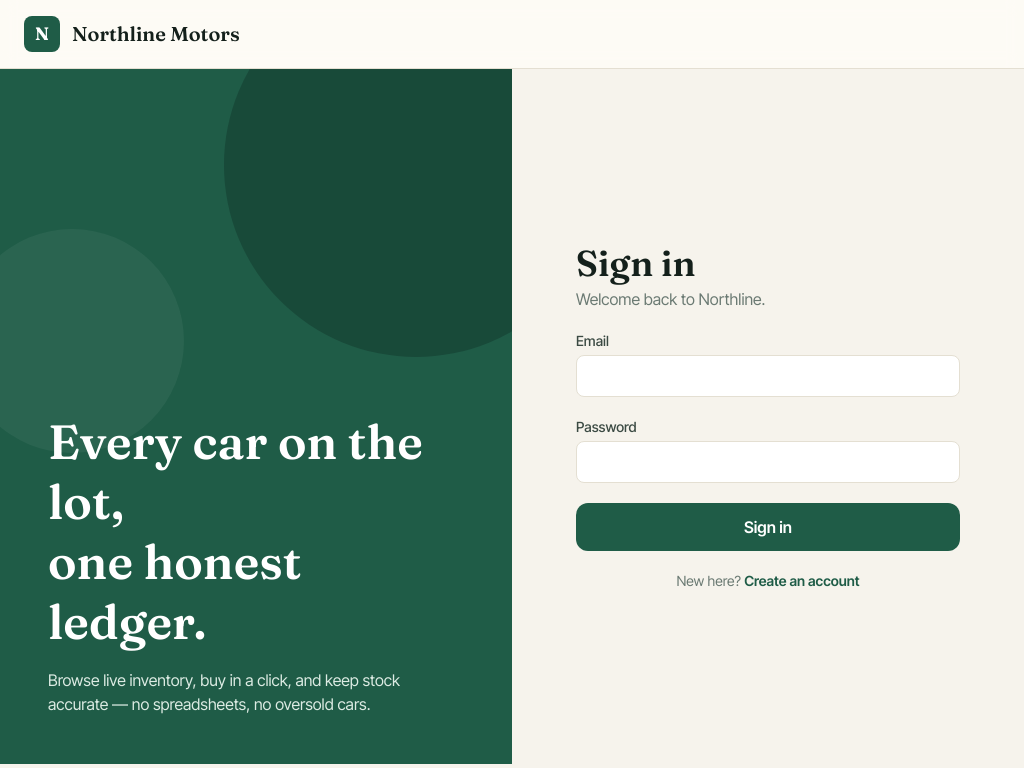
Test case: App › registers a new account then signs in automatically
Click the button "Create an account": (802,580) [744,570,860,590]
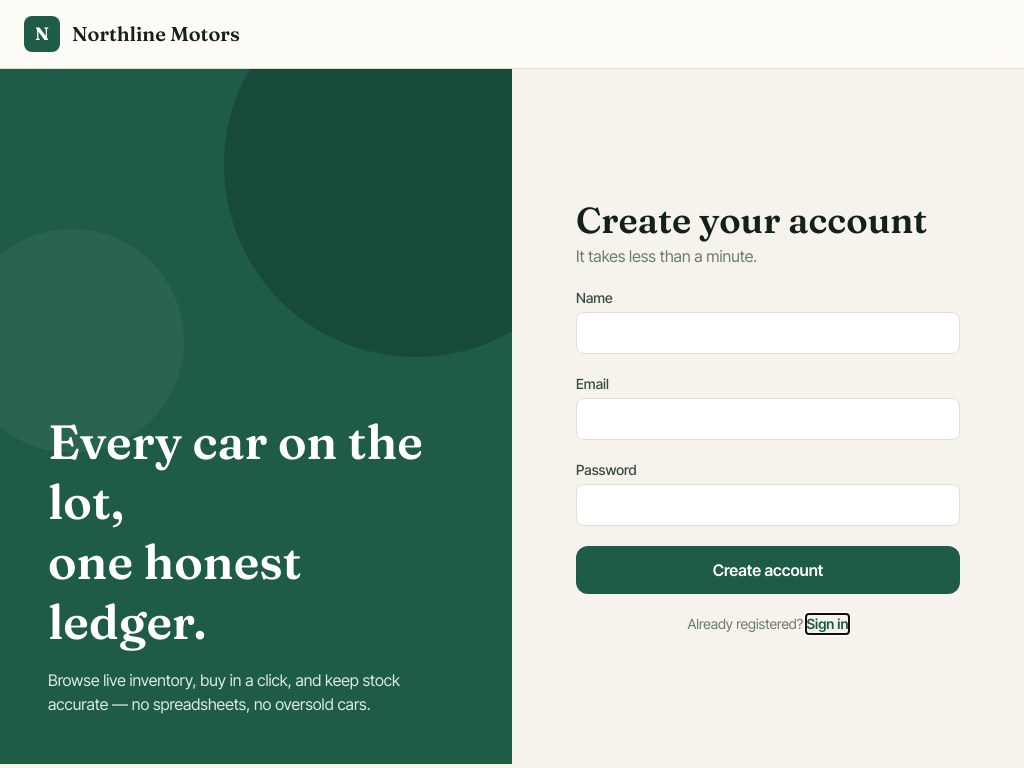
In the field labelled "Name": (768,332) [576,312,960,354], type "Casey Customer"
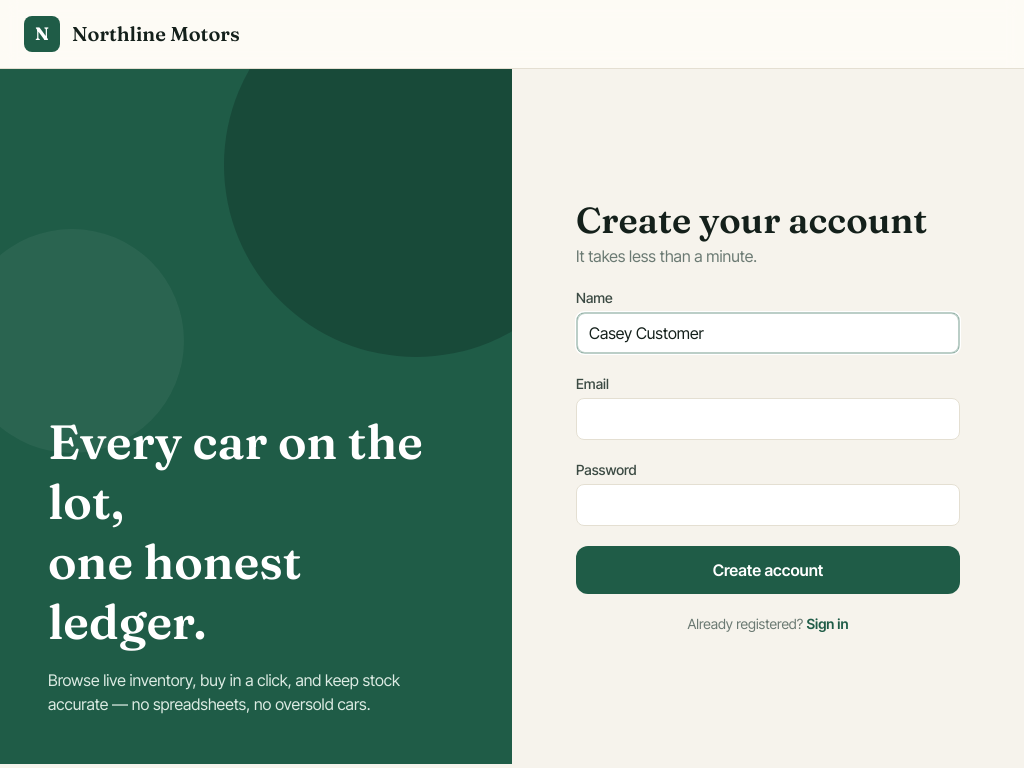
In the field labelled "Email": (768,418) [576,398,960,440], type "casey@example.com"
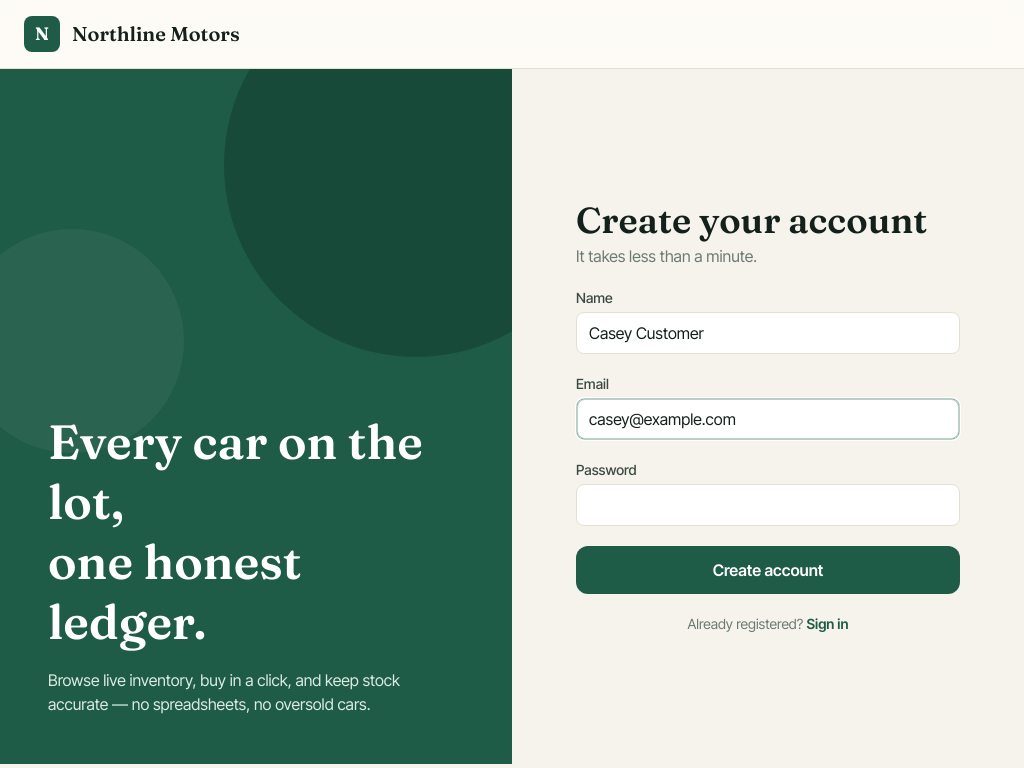
In the password field labelled "Password": (768,504) [576,484,960,526], type "Passw0rd!"
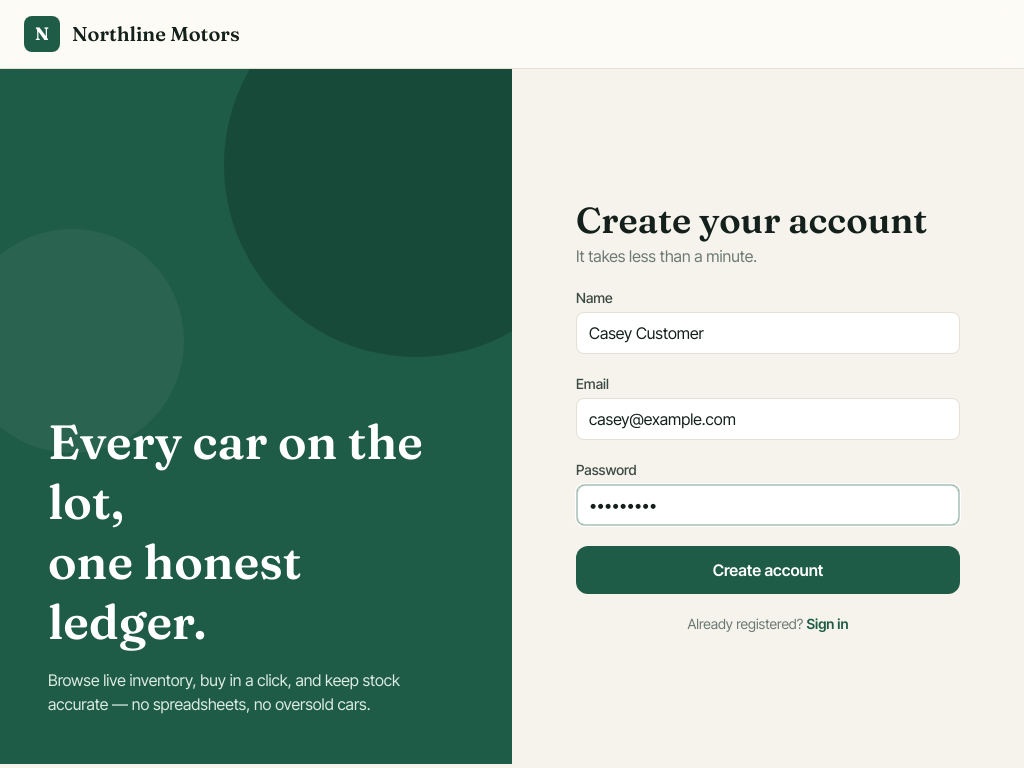
Click the button "Create account": (768,570) [576,546,960,594]
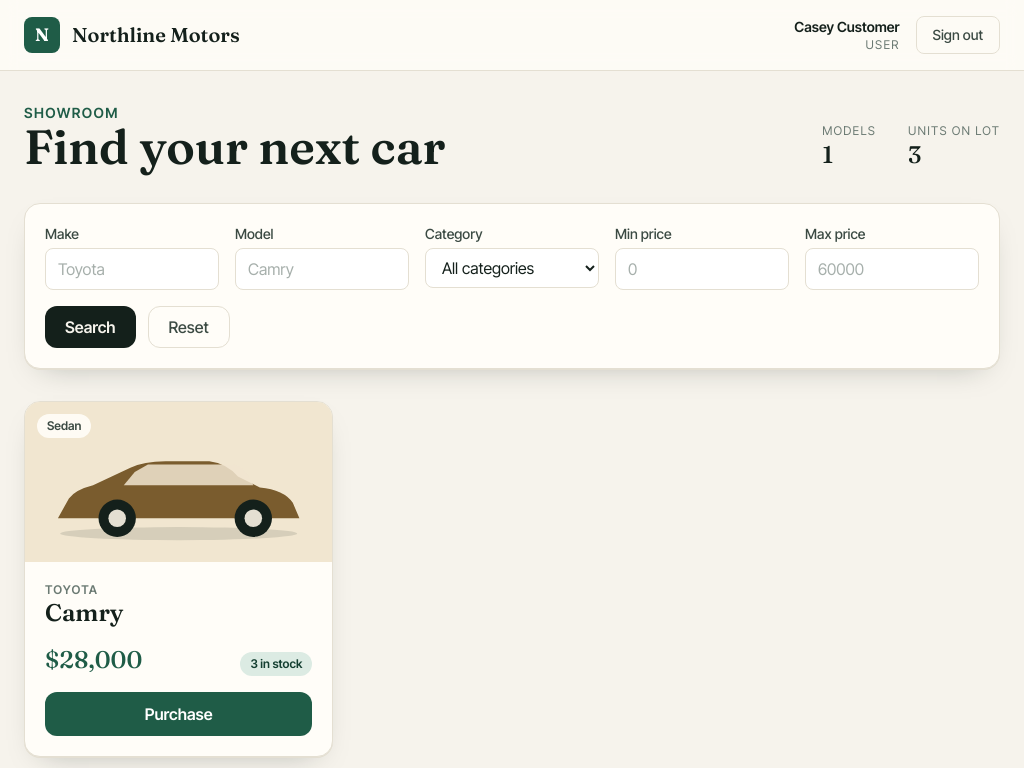
Check: the heading "Camry" is shown, box [45,598,124,627]
